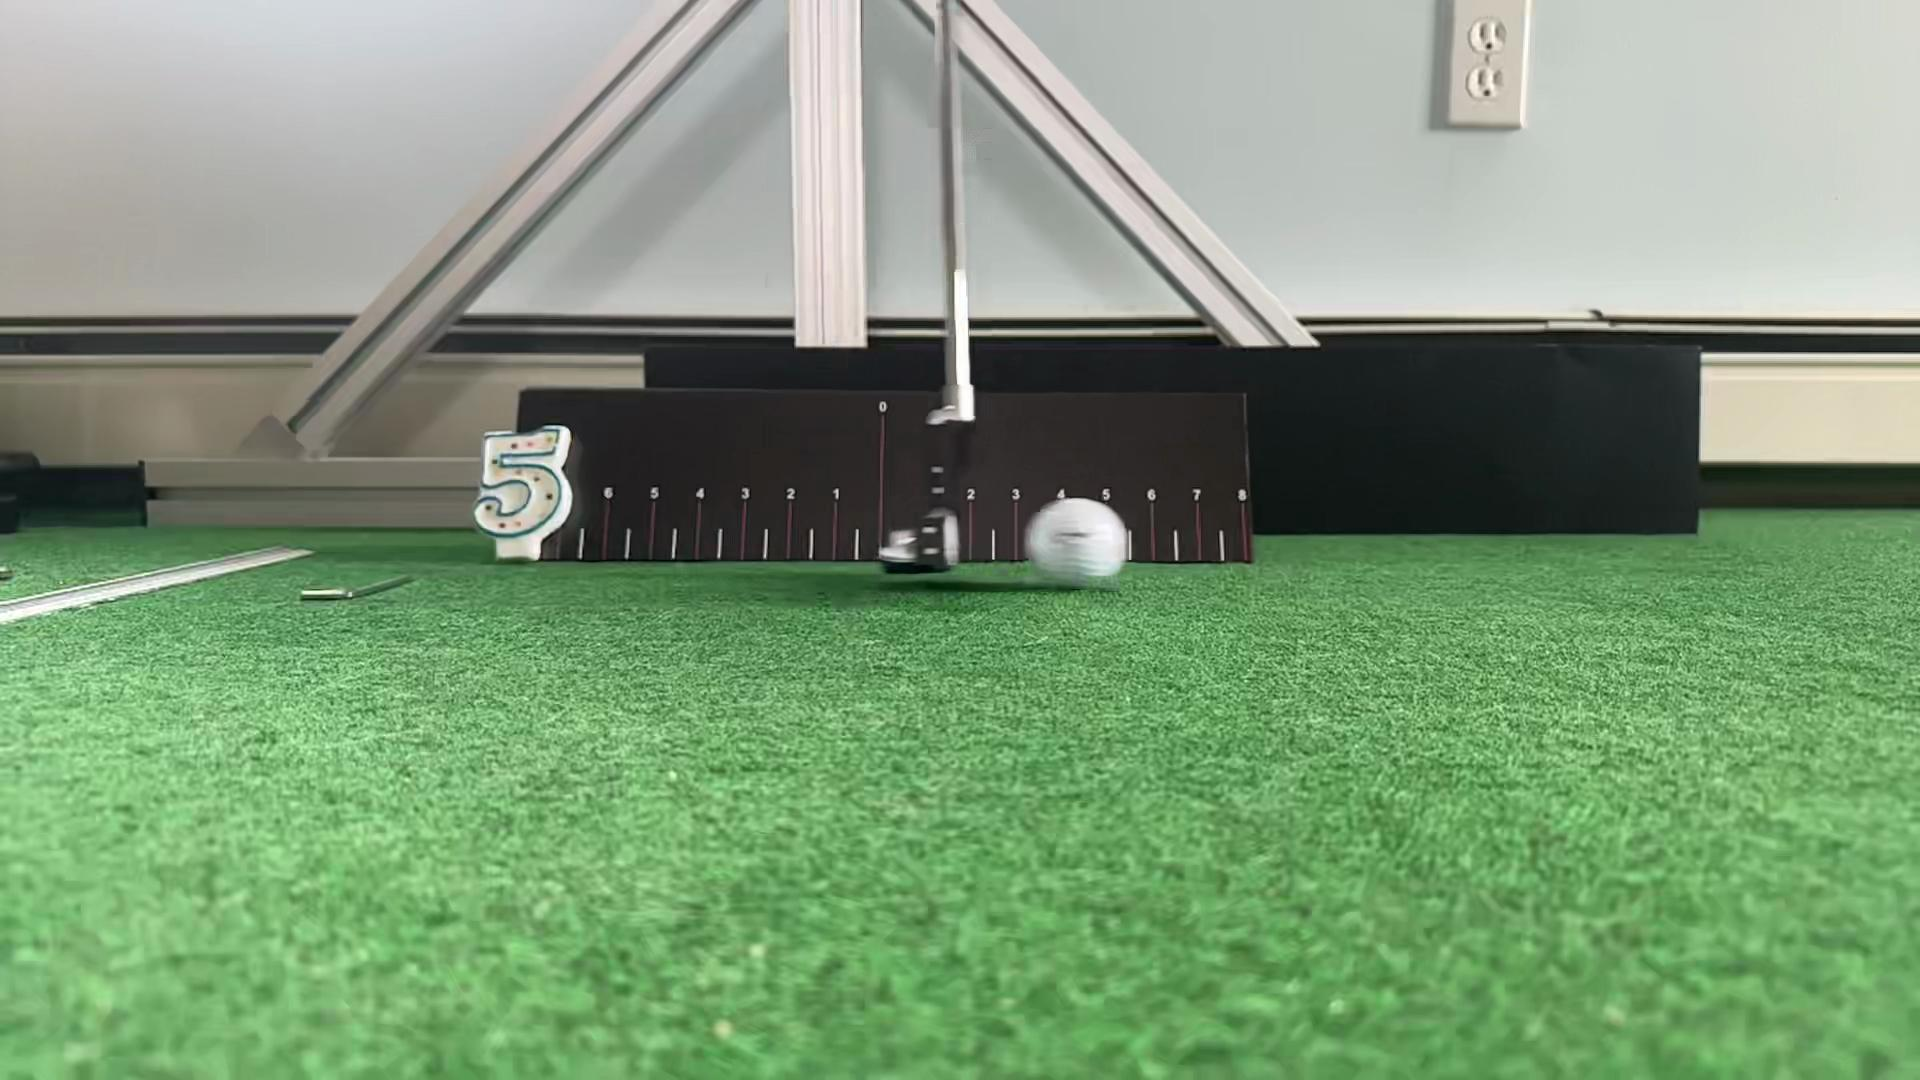golfball: (1028, 498, 1126, 591)
